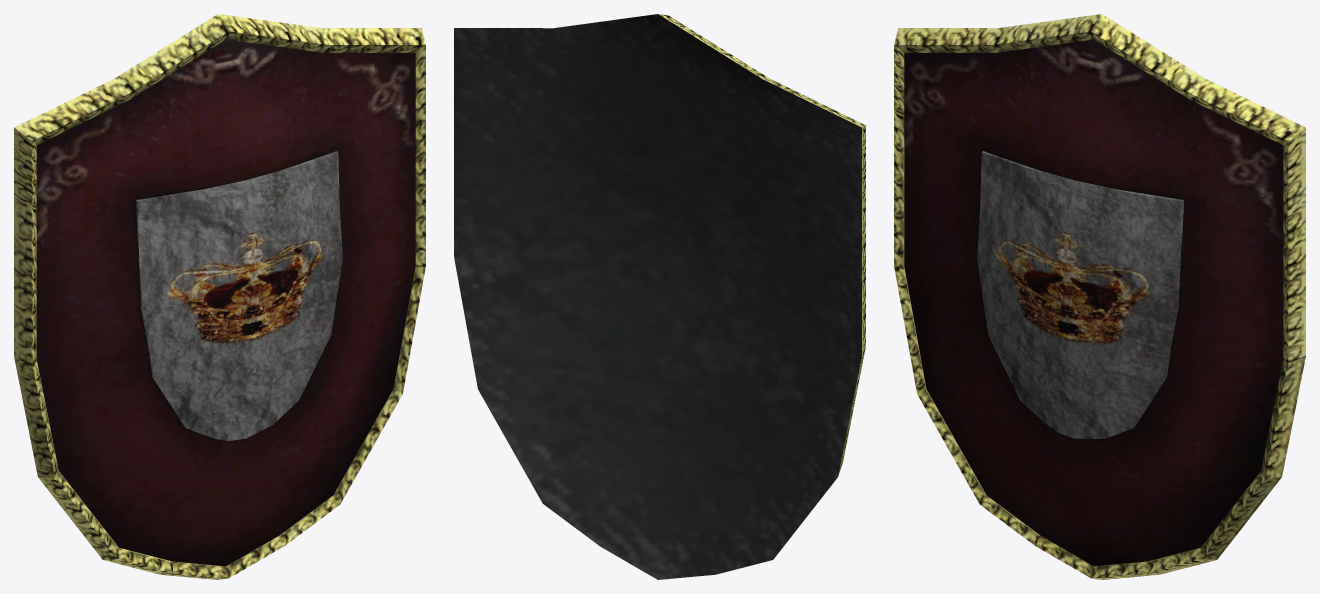
The model's file is shield03.dae.
The picture shows the model from 3 angles, left to right: view 1: azimuth 30°, elevation 25°; view 2: azimuth 150°, elevation 25°; view 3: azimuth 330°, elevation 25°; orthographic projection.
Visible parts, largest first — view 1: polySurface4; view 2: polySurface4; view 3: polySurface4.
Boxes of the visible parts, x1,y1,x2,y2 form: polySurface4: (14,14,425,579); polySurface4: (454,14,865,579); polySurface4: (894,14,1305,579).
Size of the model in its own units: 0.7004 by 0.929 by 0.1066.
